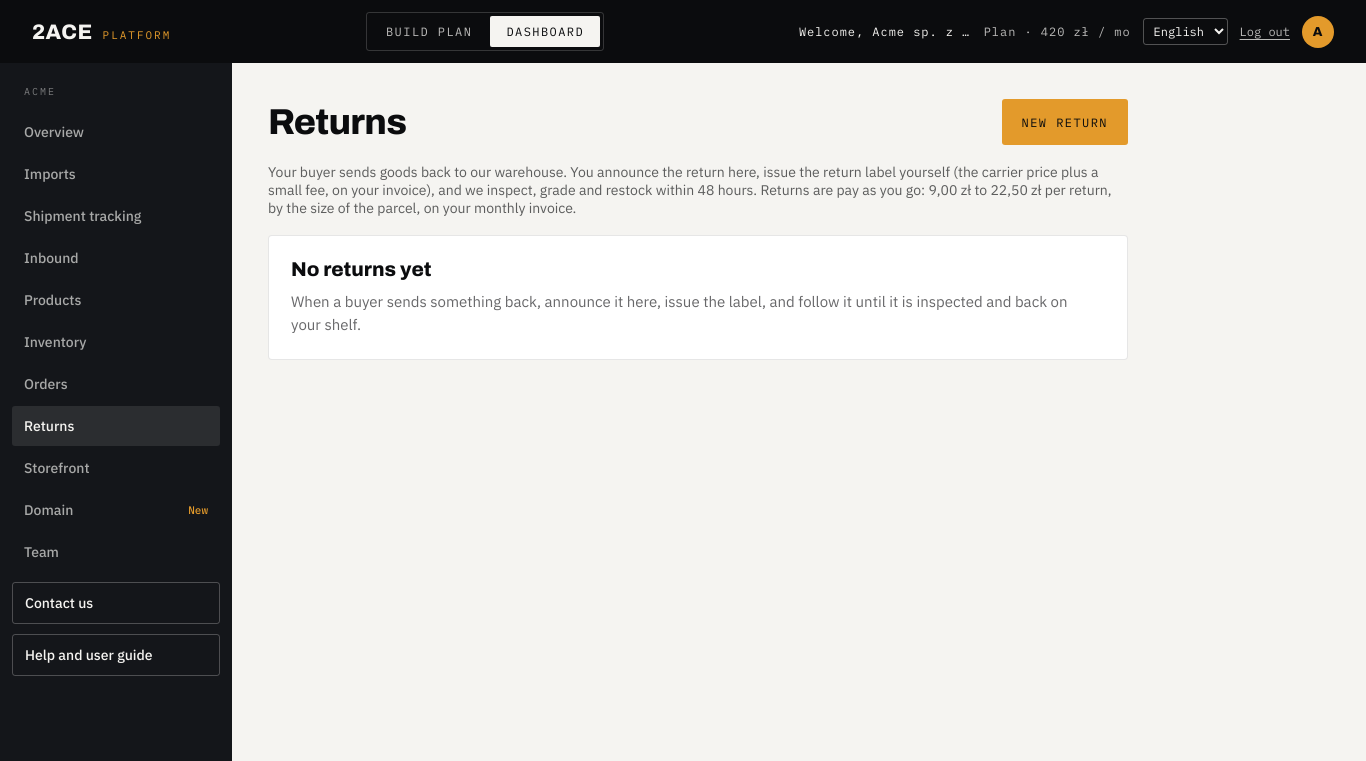
returns › announces a return from a shipped order with the buyer and only the lines coming back
This screenshot has width=1366, height=761.
Click the button "New return" at {"x": 1065, "y": 122}, box [1002,99,1128,145]
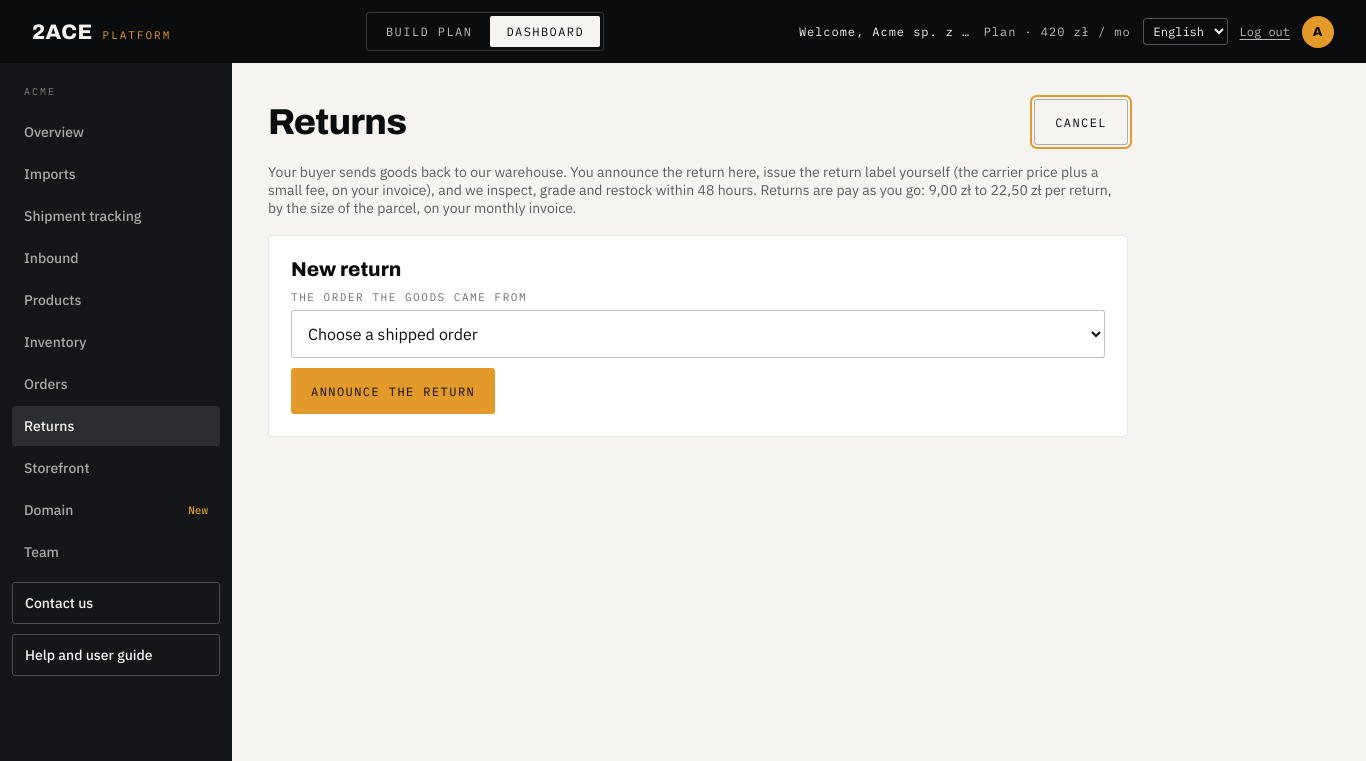
Click the button "Announce the return" at {"x": 393, "y": 391}, box [291,368,495,414]
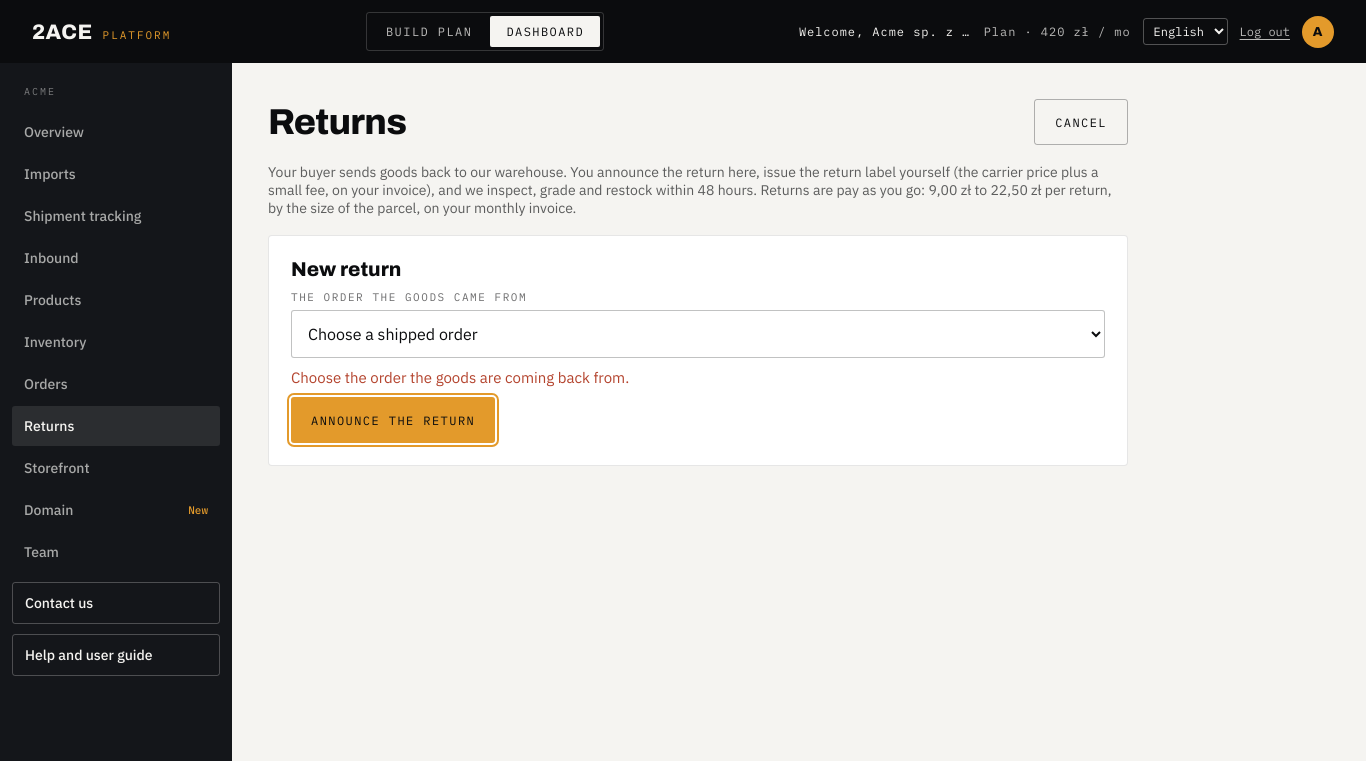
expect the text "Choose the order the goods are coming back from." is shown: met, box [291,368,629,387]
Select "O-0004 · Jan Kowalski, Warszawa" in the dropdown labelled "The order the goods came from" at {"x": 698, "y": 334}, box [291,310,1105,358]
(page scrolled)
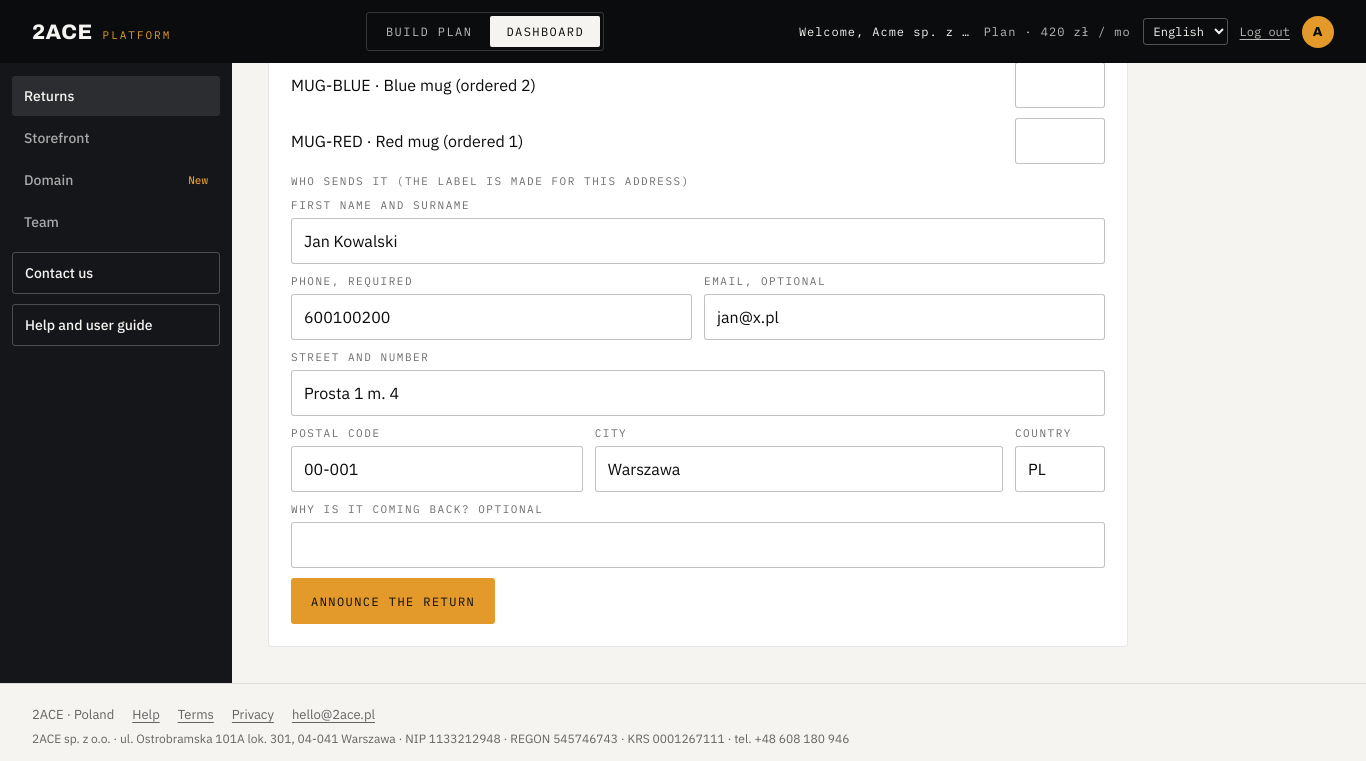
expect the field labelled "Street and number" holds "Prosta 1 m. 4": met, box [291,370,1105,416]
Click the button "Announce the return" at {"x": 393, "y": 601}, box [291,578,495,624]
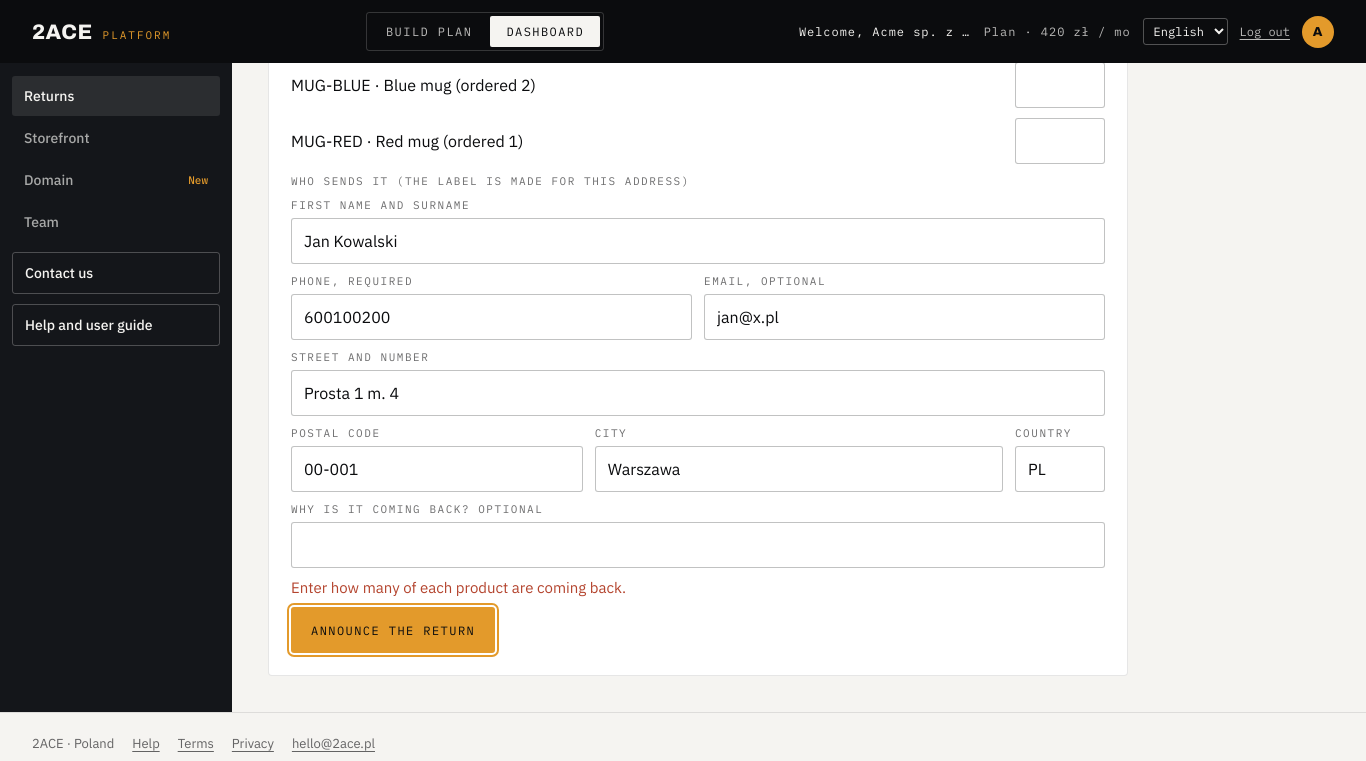
expect the text "Enter how many of each product are coming back." is shown: met, box [291,578,626,597]
Type "1" into the number field named "Units coming back" in the row of "MUG-BLUE · Blue mug (ordered 2)" at {"x": 1060, "y": 85}, box [1015,62,1105,108]
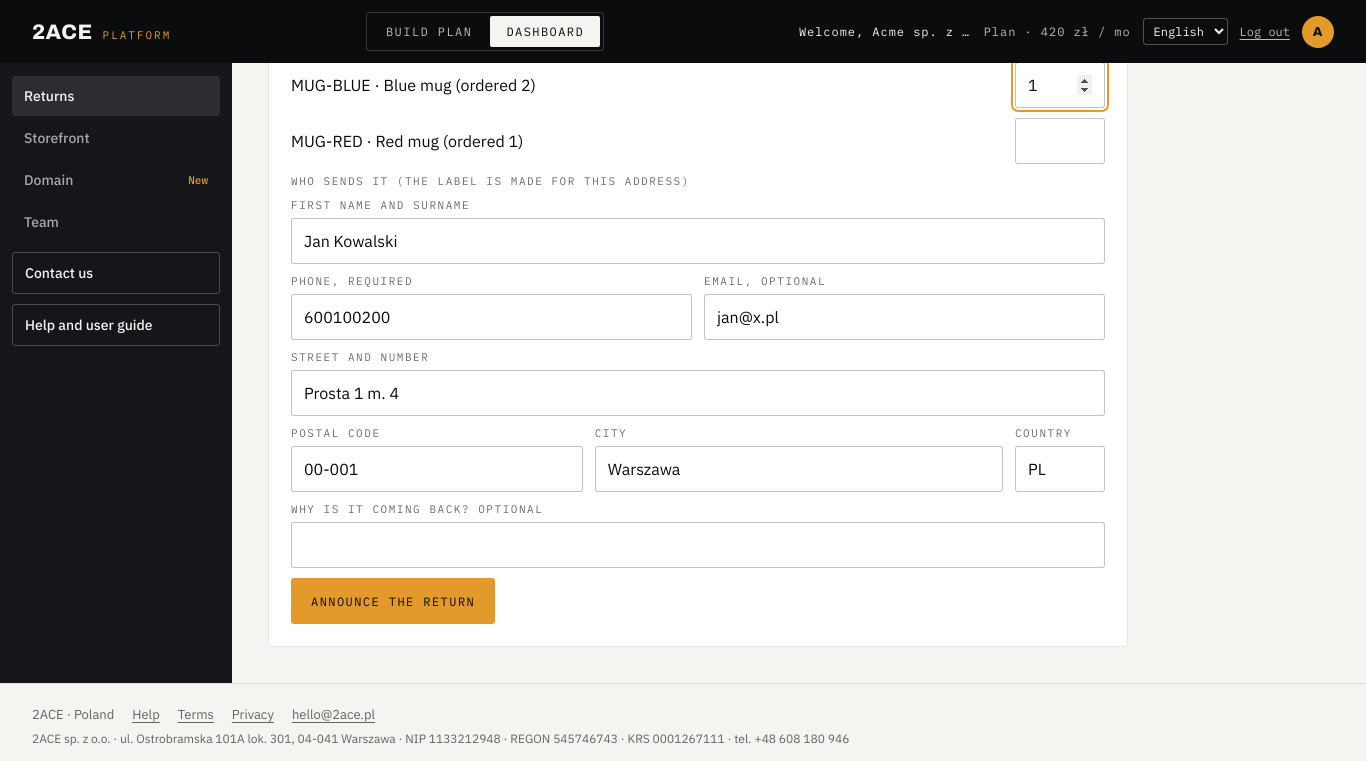
Type "Too small" into the field labelled "Why is it coming back? Optional" at {"x": 698, "y": 545}, box [291,522,1105,568]
Click the button "Announce the return" at {"x": 393, "y": 601}, box [291,578,495,624]
(page scrolled)
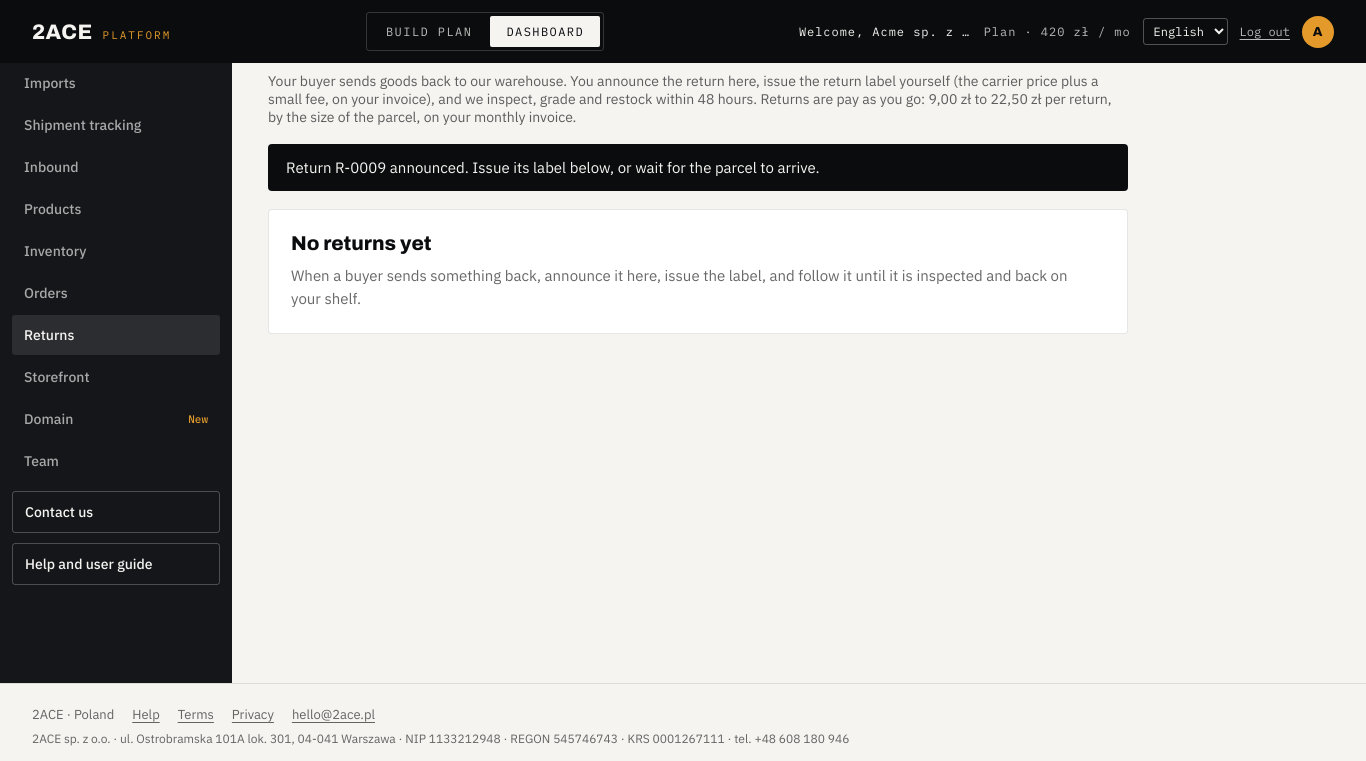
expect the text "Return R-0009 announced." is shown: met, box [286,158,820,177]
